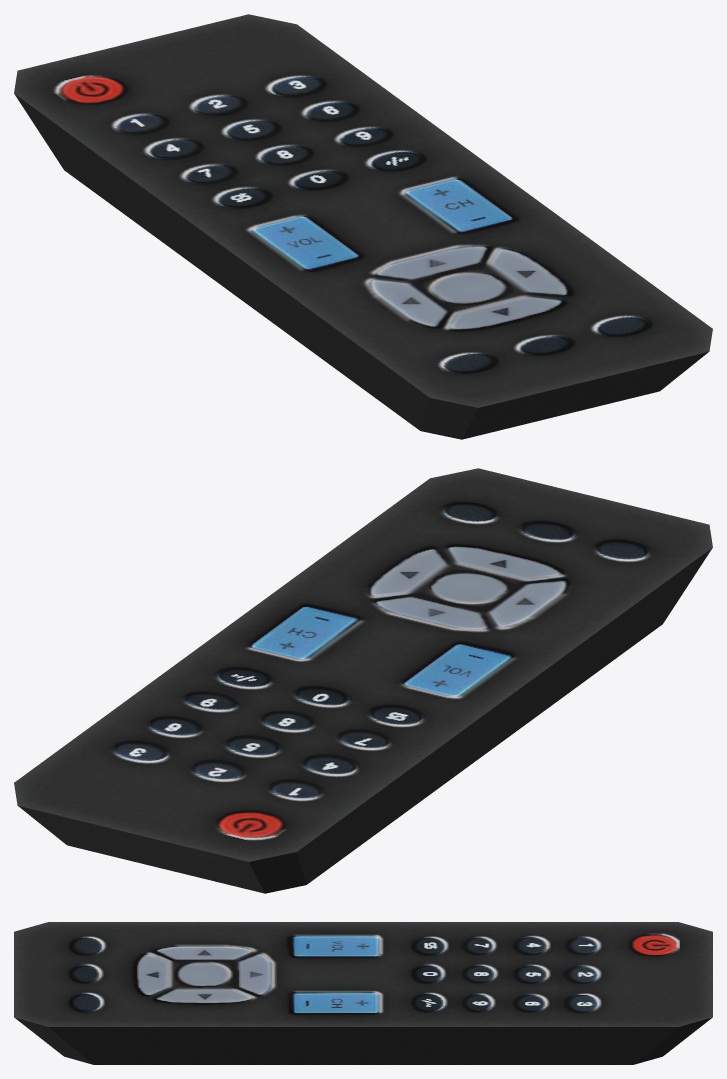
Rendered from TvRemote.fbx.
3 renders of one model, top to bottom at view 1: azimuth 30°, elevation 25°; view 2: azimuth 150°, elevation 25°; view 3: azimuth 270°, elevation 25°, orthographic. The views are drawn at different scales.
Parts seen in each view (by area): view 1: remote; view 2: remote; view 3: remote.
Part boxes in pixels (left/top/right/bottom): remote: left=14, top=14, right=712, bottom=439; remote: left=14, top=468, right=712, bottom=893; remote: left=14, top=922, right=712, bottom=1064.
Size of the model in its own units: 5.62 by 1.14 by 15.84.
